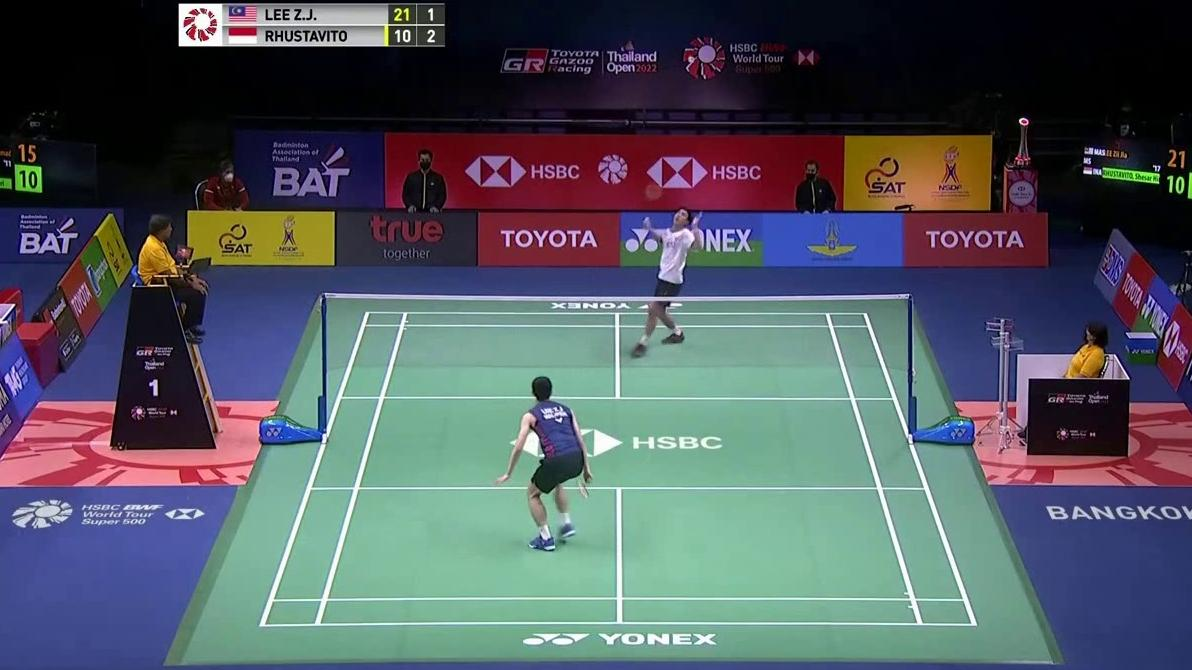racket: (643, 182, 662, 227), (578, 477, 592, 498)
shuttle: (688, 56, 694, 62)
